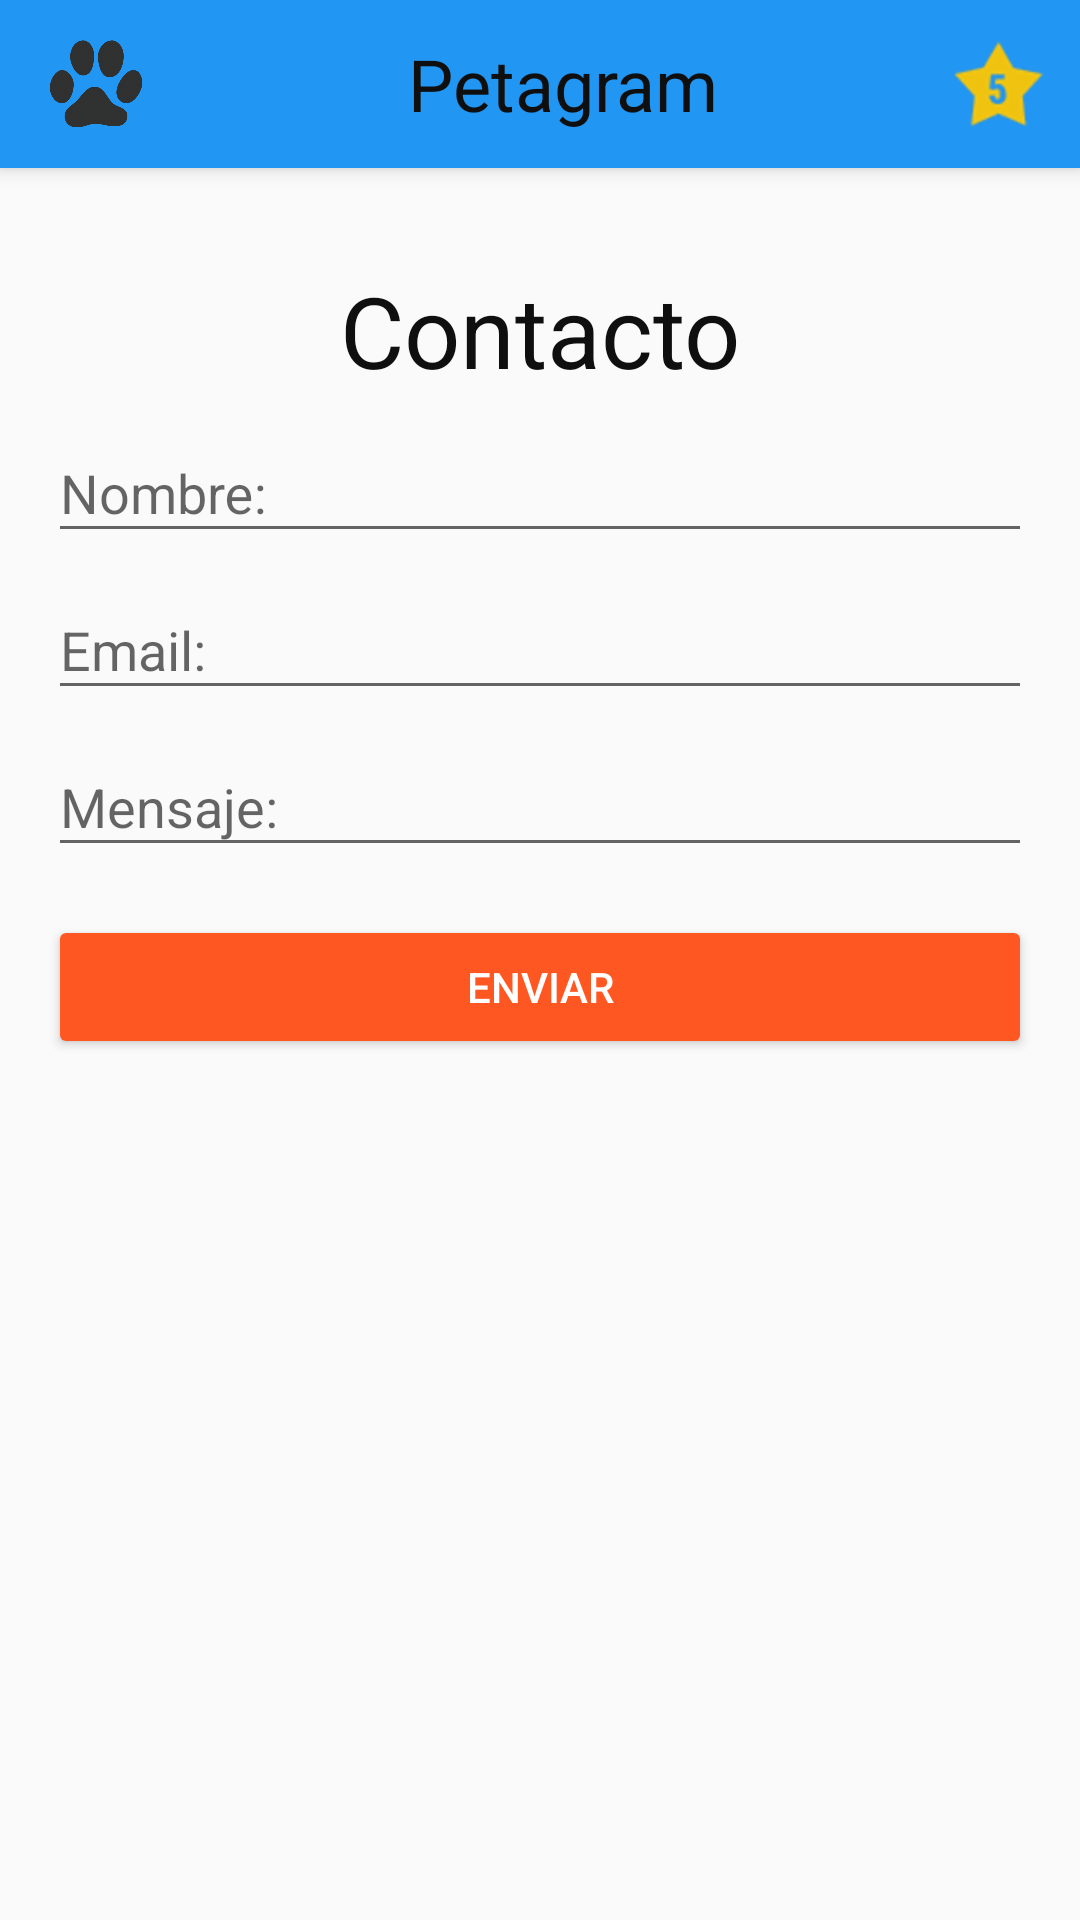

Icons on this 1080×1920 Android screen, each with its box as (x1, y1, x2, y2):
fav: (954, 42, 1043, 127)
huella: (50, 40, 142, 127)
